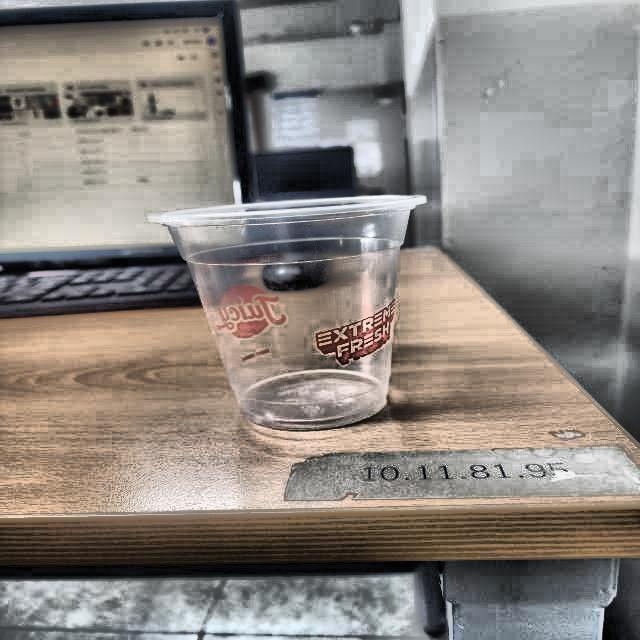plastic cup: (144, 192, 431, 434)
